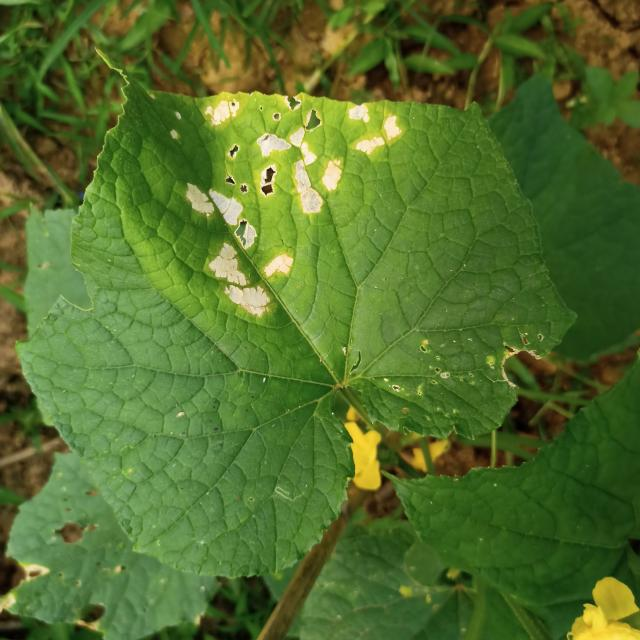disease_cucumber: (170, 87, 406, 322)
